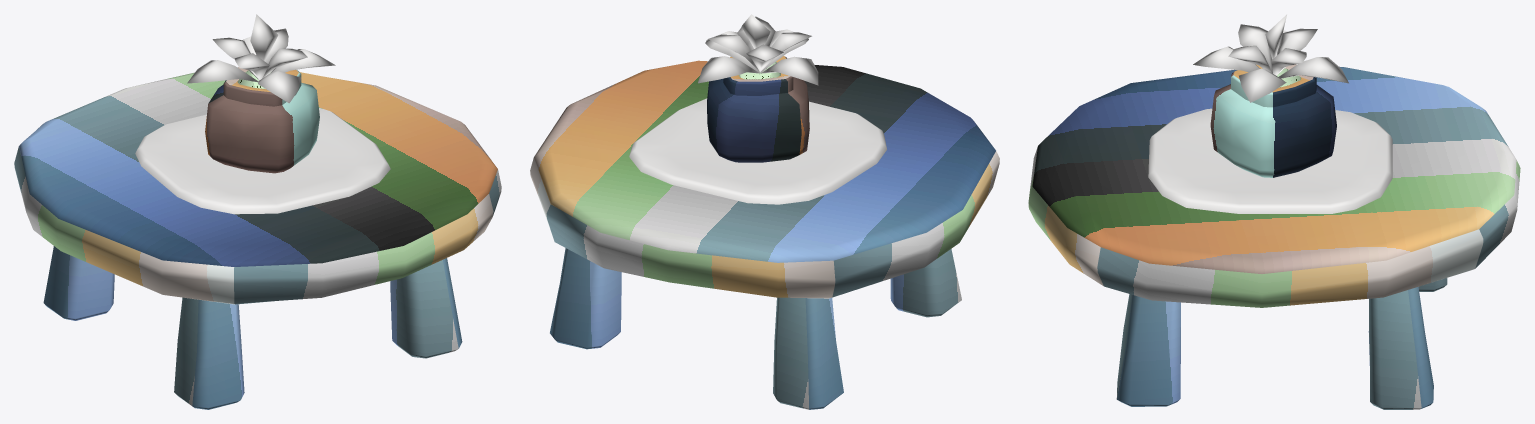
File: P_StoneDiningTableRound.glb
The picture shows the model from 3 angles, left to right: view 1: azimuth 30°, elevation 25°; view 2: azimuth 150°, elevation 25°; view 3: azimuth 270°, elevation 25°; orthographic projection. The views are drawn at different scales.
Parts seen in each view (by area): view 1: P_StoneDiningTableRound; view 2: P_StoneDiningTableRound; view 3: P_StoneDiningTableRound.
Boxes of the visible parts, x1,y1,x2,y2 form: P_StoneDiningTableRound: [14, 14, 501, 409]; P_StoneDiningTableRound: [530, 14, 999, 409]; P_StoneDiningTableRound: [1028, 14, 1520, 409].
Bounding box in the file's own units: 1.58 × 1.15 × 1.57.
1 material, 1 textured.
